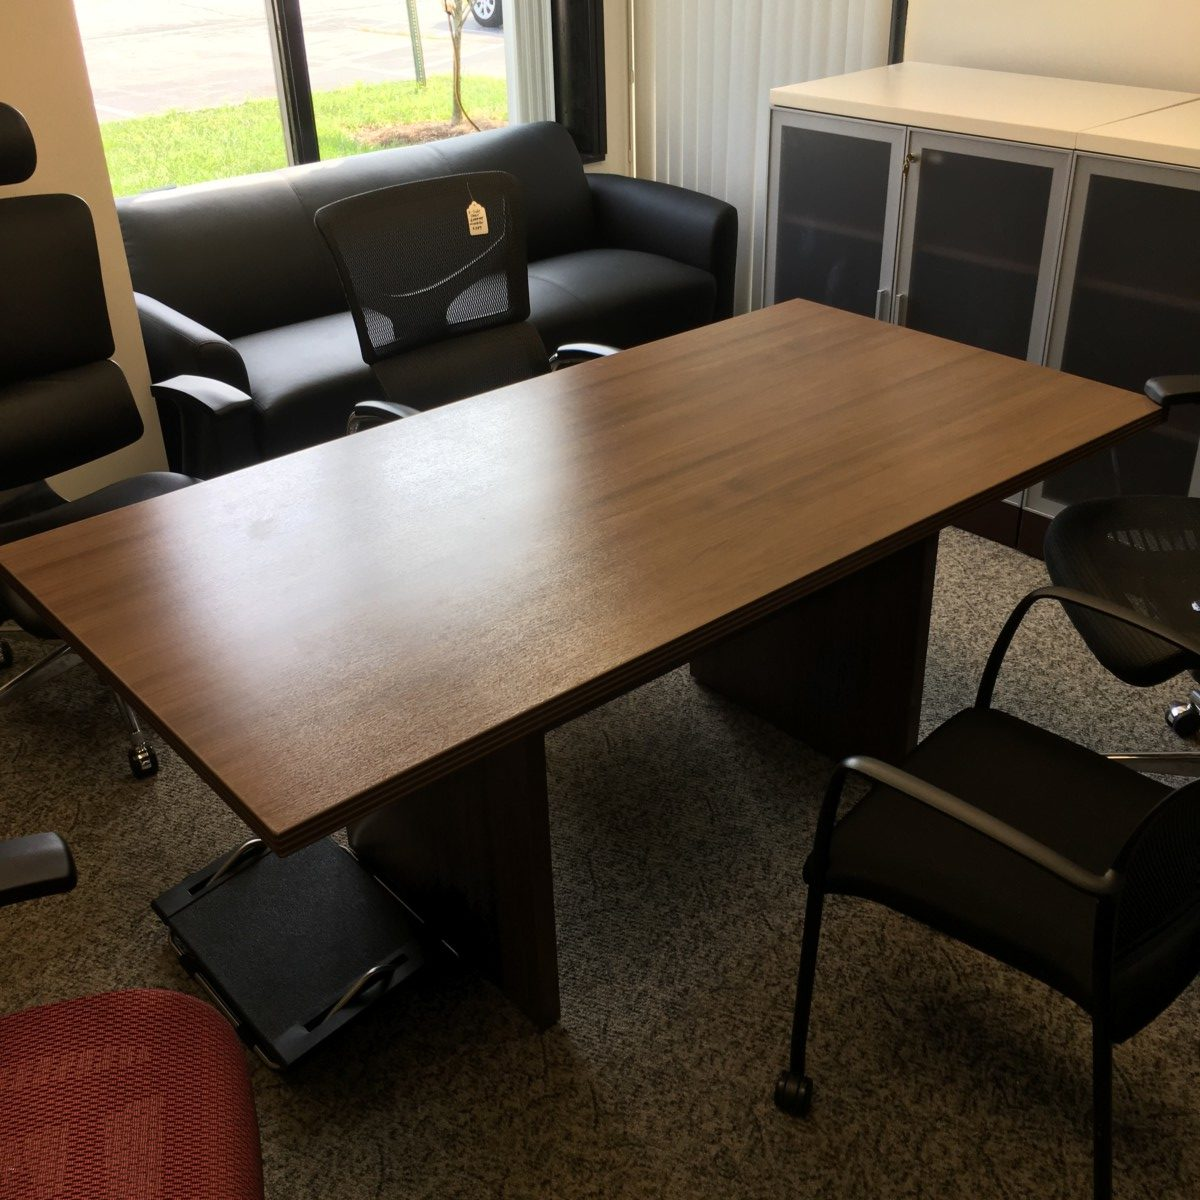conference_table: (40, 298, 1166, 1043)
